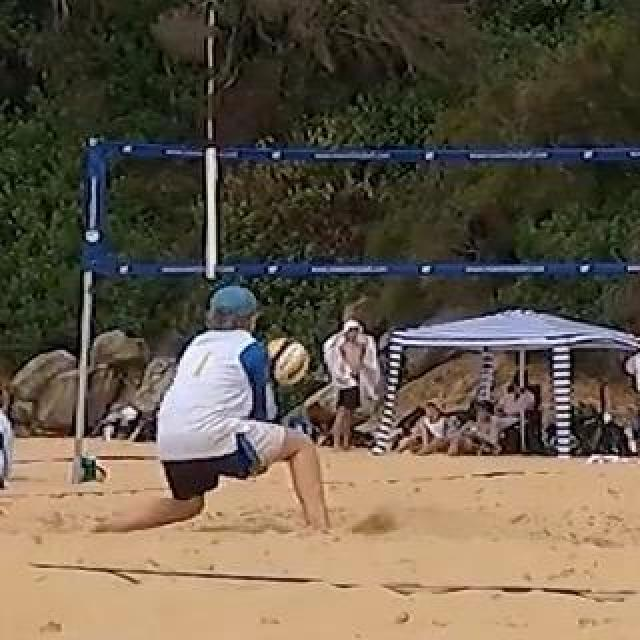volleyball: (259, 334, 311, 388)
